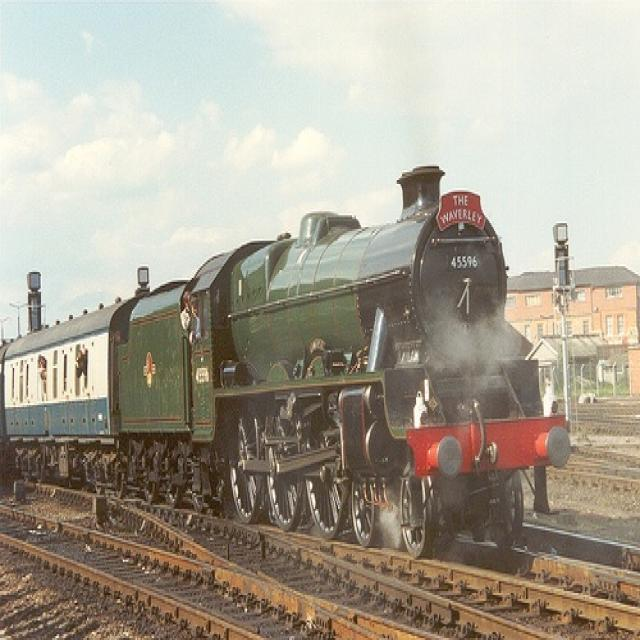train: (0, 162, 568, 561)
